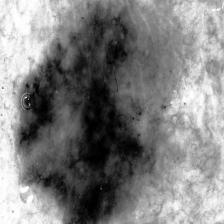Benign Marking or Mole: (17, 2, 184, 224)
